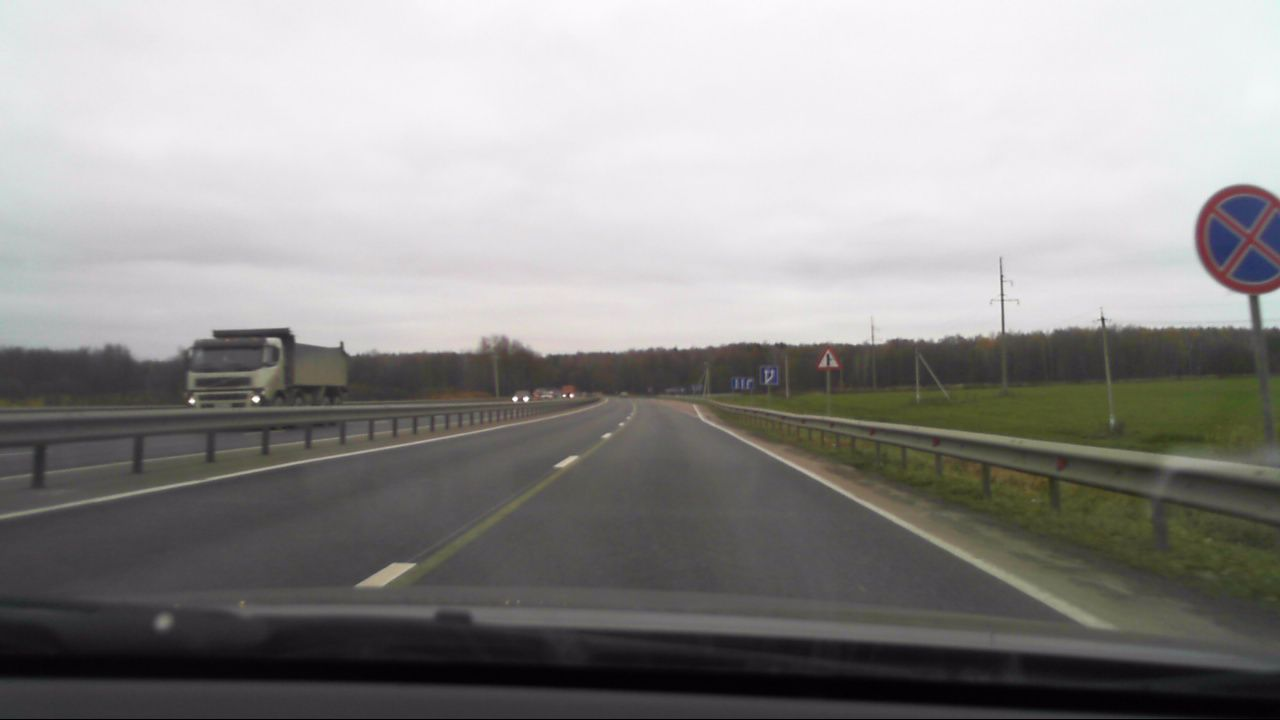No Parking: (1193, 183, 1279, 301)
